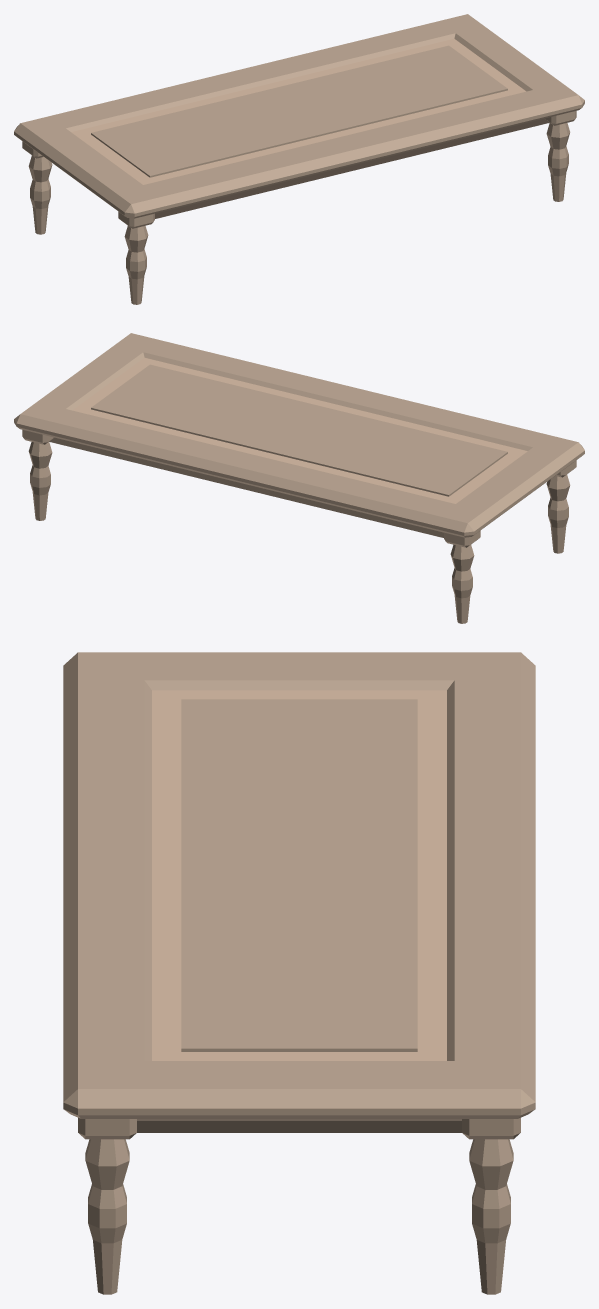
File: Prop_Living_Room_Coffee_Table.glb
3 views of the same model, one above another, from view 1: azimuth 30°, elevation 25°; view 2: azimuth 150°, elevation 25°; view 3: azimuth 270°, elevation 25° (orthographic). The views are drawn at different scales.
Visible parts, largest first — view 1: Prop_Living_Room_Coffee_Table; view 2: Prop_Living_Room_Coffee_Table; view 3: Prop_Living_Room_Coffee_Table.
Boxes of the visible parts, x1,y1,x2,y2 form: Prop_Living_Room_Coffee_Table: (14,14,584,304); Prop_Living_Room_Coffee_Table: (14,333,584,623); Prop_Living_Room_Coffee_Table: (63,652,535,1294).
Bounding box in the file's own units: 1.8 × 0.4 × 0.8.
